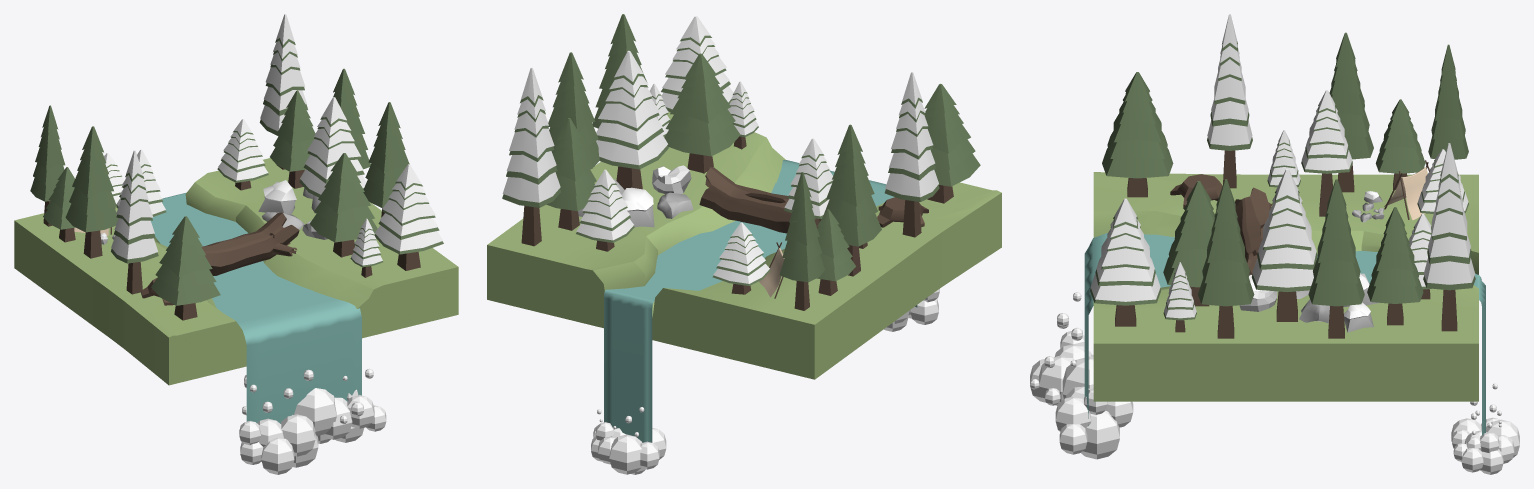
Rendered from low_poly_forest.glb.
The picture shows the model from 3 angles, left to right: view 1: azimuth 30°, elevation 25°; view 2: azimuth 150°, elevation 25°; view 3: azimuth 270°, elevation 25°; orthographic projection. The views are drawn at different scales.
Visible parts, largest first — view 1: pPlane1, pPlane4, polySurface7, pCube25, pCube40, pCube45, pCube20, pCube41, pCube22, pPipe1, pCube23, pCube26 (+9 smaller); view 2: pPlane1, pPlane4, pCube22, pCube23, pCube20, pCube41, pCube45, pCube40, pCube42, pPipe1, pCube21, pSphere69 (+13 smaller); view 3: pPlane1, polySurface7, pCube22, pCube25, pCube23, pCube40, pCube26, pCube27, pCube41, pCube21, pPlane4, pSphere69 (+13 smaller).
Boxes of the visible parts, box(x1,y1,x2,y2) form: pPlane1: box(14, 158, 458, 385); pPlane4: box(151, 192, 361, 423); polySurface7: box(239, 368, 386, 474); pCube25: box(374, 164, 443, 270); pCube40: box(151, 216, 220, 320); pCube45: box(65, 126, 118, 258); pCube20: box(309, 153, 377, 257); pCube41: box(111, 150, 158, 294); pCube22: box(299, 97, 366, 197); pPipe1: box(201, 212, 299, 275); pCube23: box(259, 14, 307, 169); pCube26: box(363, 102, 409, 217); pPlane1: box(487, 112, 1001, 379); pPlane4: box(604, 160, 917, 442); pCube22: box(596, 50, 668, 189); pCube23: box(502, 67, 560, 246); pCube20: box(664, 53, 740, 173); pCube41: box(884, 72, 939, 237); pCube45: box(823, 124, 881, 276); pCube40: box(924, 83, 980, 203); pCube42: box(779, 172, 824, 310); pPipe1: box(699, 167, 821, 233); pCube21: box(546, 118, 596, 230); pSphere69: box(591, 407, 666, 474); pPlane1: box(1093, 172, 1478, 401); polySurface7: box(1030, 292, 1133, 459); pCube22: box(1251, 169, 1317, 321); pCube25: box(1090, 198, 1161, 326); pCube23: box(1423, 143, 1475, 331); pCube40: box(1102, 72, 1173, 197); pCube26: box(1198, 179, 1254, 338); pCube27: box(1308, 179, 1364, 338); pCube41: box(1207, 14, 1252, 188); pCube21: box(1367, 207, 1423, 325); pPlane4: box(1084, 233, 1485, 435); pSphere69: box(1451, 383, 1519, 474).
Size of the model in its own units: 1075 by 1104 by 1271.
